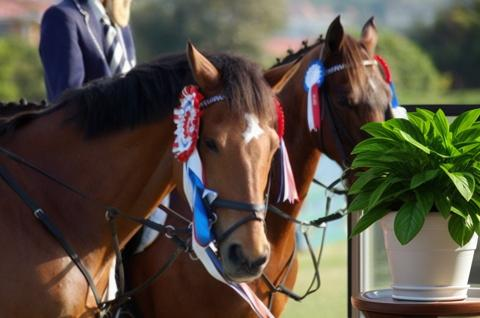horse: (123, 15, 413, 317), (1, 41, 305, 317)
person: (41, 2, 138, 104)
pottedplant: (347, 104, 479, 316)
